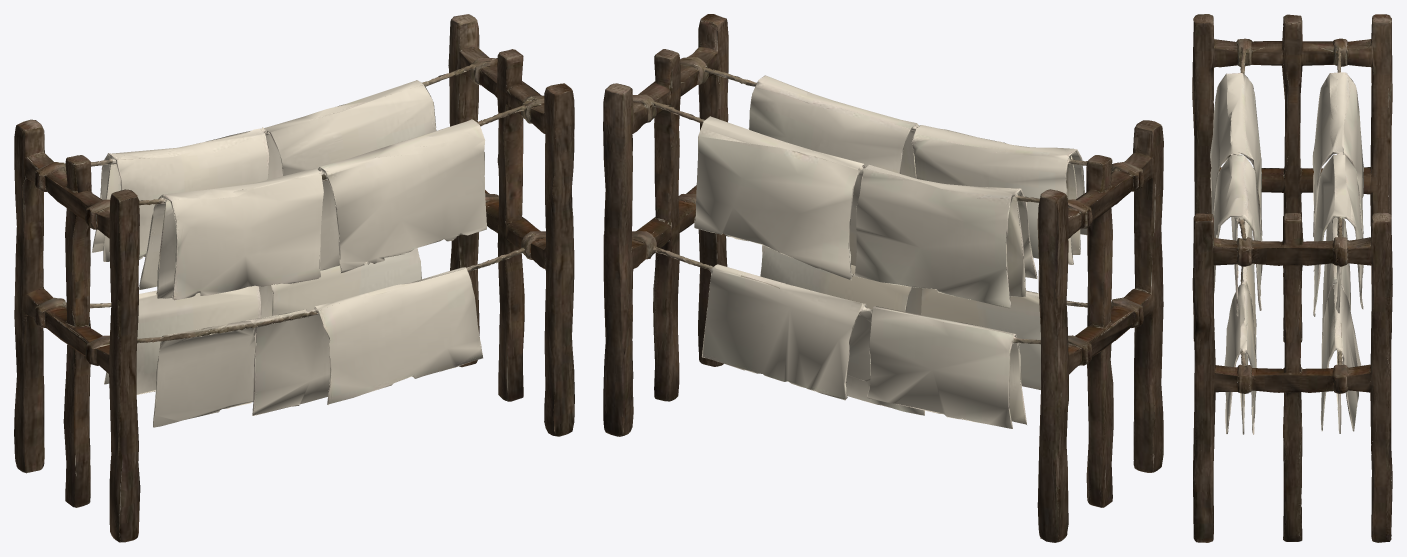
Rendered from drying-line-rack.glb.
3 renders of one model, left to right at view 1: azimuth 30°, elevation 25°; view 2: azimuth 150°, elevation 25°; view 3: azimuth 270°, elevation 25°, orthographic. The views are drawn at different scales.
Visible parts, largest first — view 1: Mesh_0; view 2: Mesh_0; view 3: Mesh_0.
Boxes of the visible parts, x1,y1,x2,y2 form: Mesh_0: (14, 14, 574, 542); Mesh_0: (603, 14, 1163, 542); Mesh_0: (1192, 14, 1392, 542).
Size of the model in its own units: 1.9 by 1.34 by 0.7579.
Materials: 1 (1 with a texture image).
